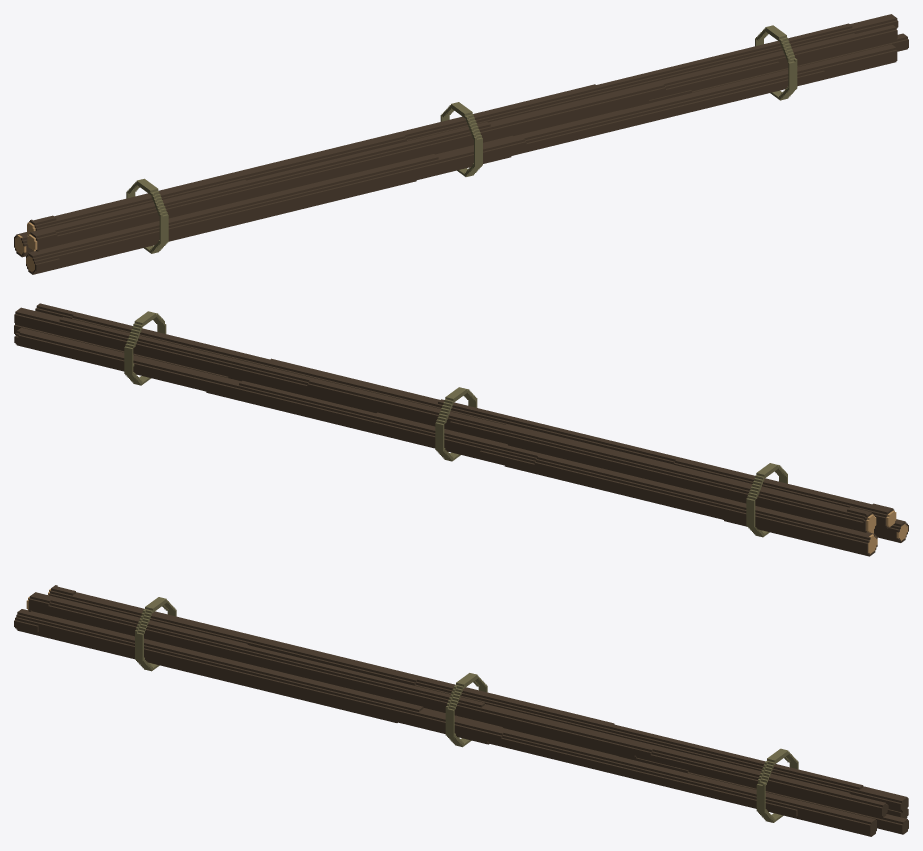
The model's file is bundle_branch_long.glb.
3 renders of one model, top to bottom at view 1: azimuth 30°, elevation 25°; view 2: azimuth 150°, elevation 25°; view 3: azimuth 330°, elevation 25°, orthographic.
Parts seen in each view (by area): view 1: bundle_branch_long:compound; view 2: bundle_branch_long:compound; view 3: bundle_branch_long:compound.
Boxes of the visible parts, bbox=[...] form: bundle_branch_long:compound: bbox=[14, 14, 908, 274]; bundle_branch_long:compound: bbox=[14, 303, 908, 556]; bundle_branch_long:compound: bbox=[14, 585, 908, 836].
Size of the model in its own units: 2.67 by 0.18 by 0.18.
